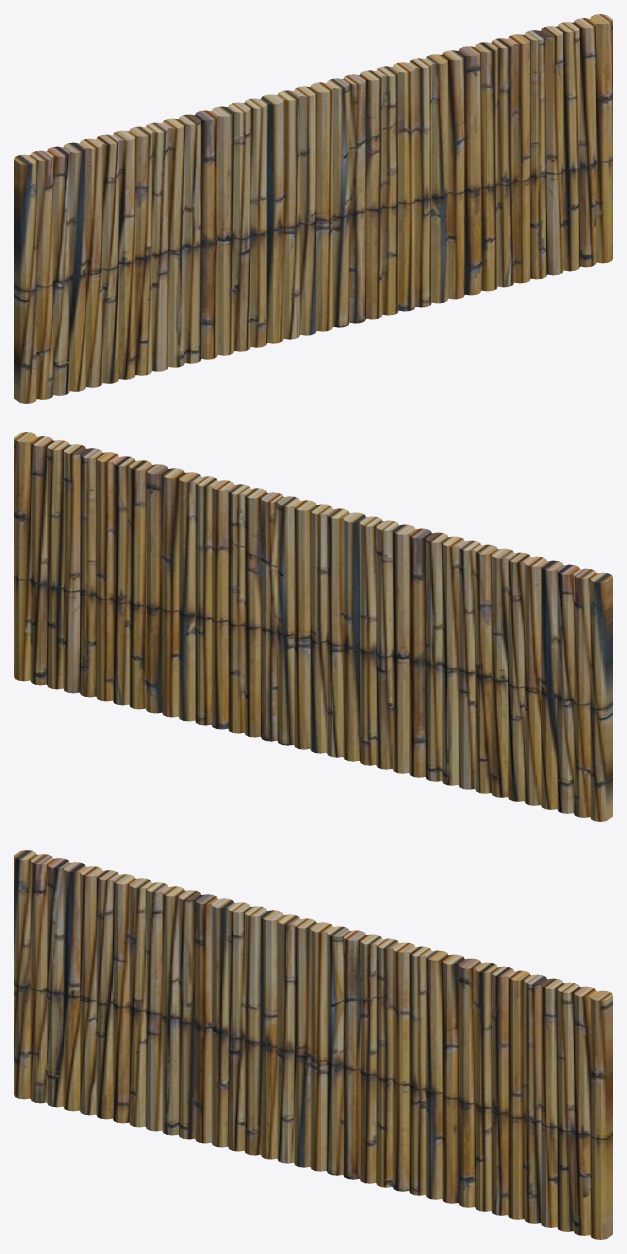
The model's file is BambooWallShort.glb.
3 views of the same model, one above another, from view 1: azimuth 30°, elevation 25°; view 2: azimuth 150°, elevation 25°; view 3: azimuth 330°, elevation 25° (orthographic).
Visible parts, largest first — view 1: BambooWallShort; view 2: BambooWallShort; view 3: BambooWallShort.
Part boxes in pixels (left/top/right/bottom): BambooWallShort: left=14, top=14, right=612, bottom=403; BambooWallShort: left=14, top=432, right=612, bottom=821; BambooWallShort: left=14, top=850, right=612, bottom=1239.
Size of the model in its own units: 3 by 1.16 by 0.1103.
1 material, 1 textured.
